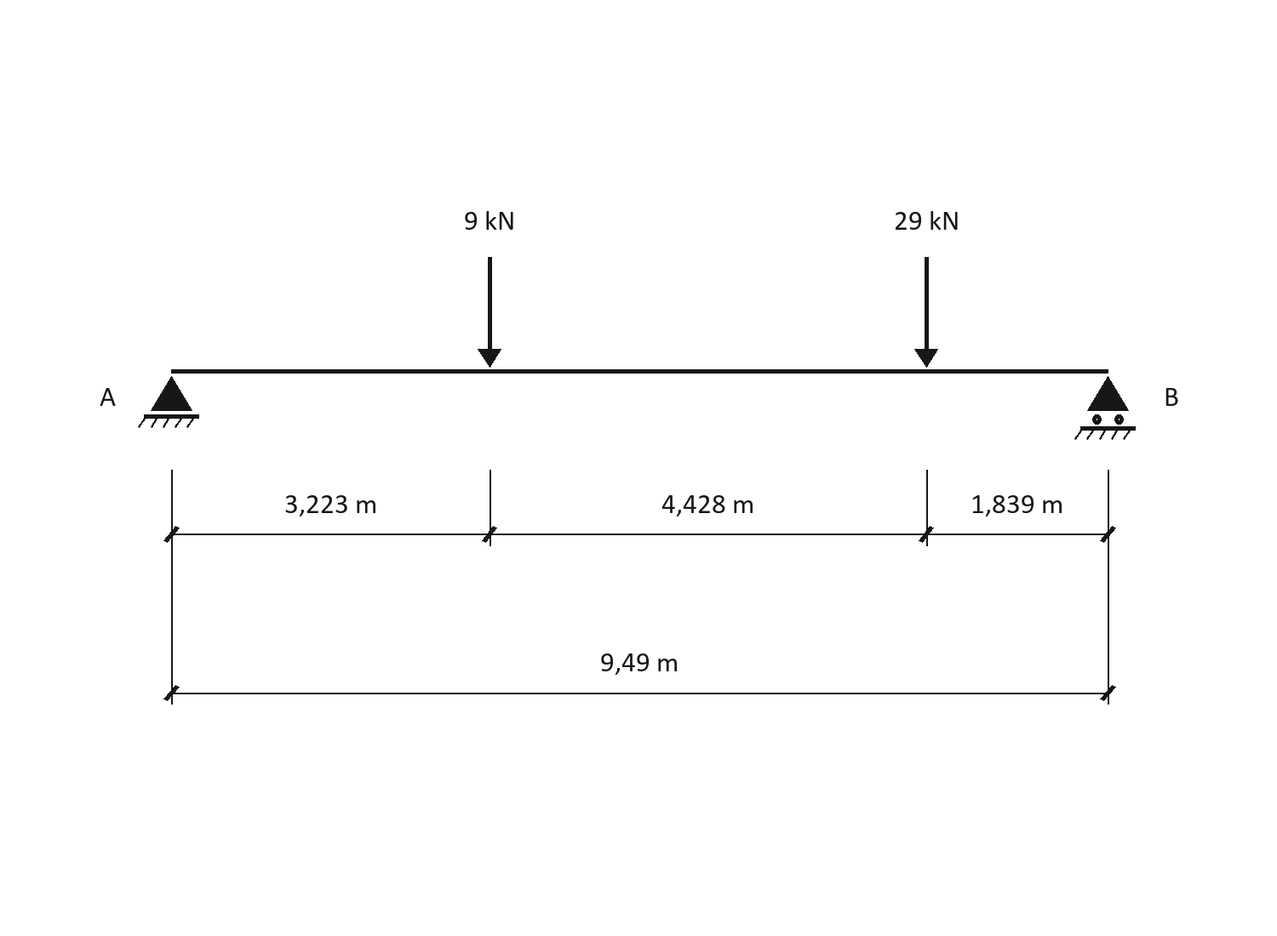pin_support: (138, 376, 199, 428)
point_load: (914, 257, 938, 368), (478, 257, 501, 368)
roller_support: (1074, 376, 1136, 440)
